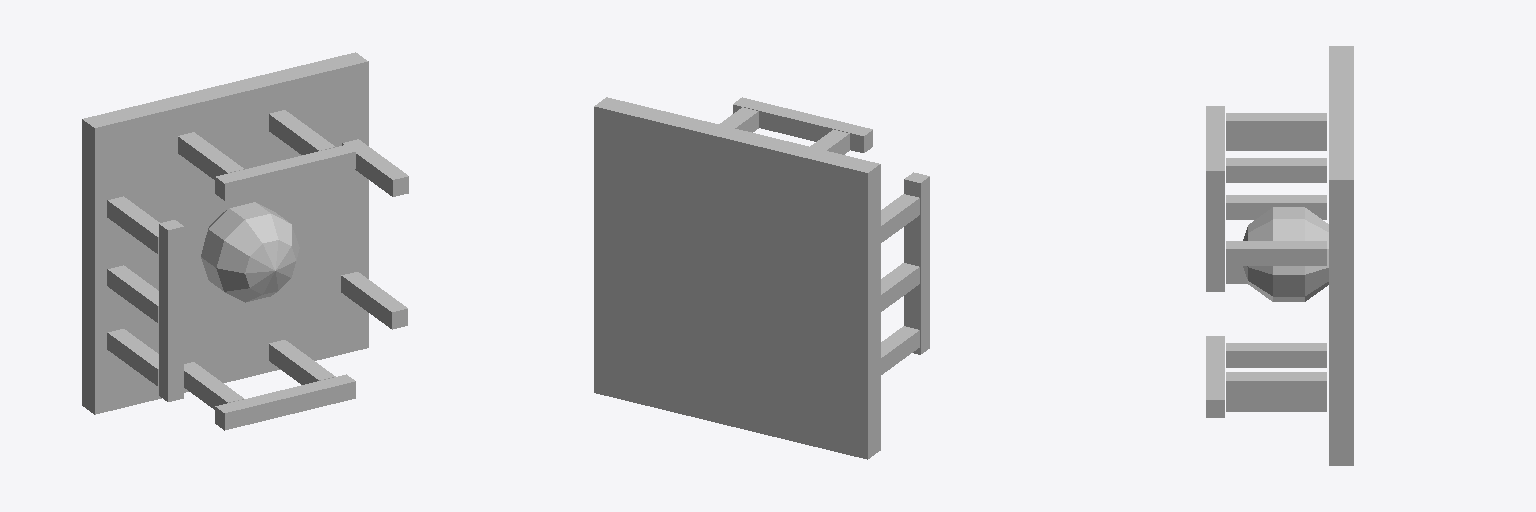
File: escenaAlexandra.obj
3 views of the same model, side by side, from view 1: azimuth 30°, elevation 25°; view 2: azimuth 150°, elevation 25°; view 3: azimuth 270°, elevation 25° (orthographic).
Visible parts, largest first — view 1: Box01, Sphere01, Box09, Box04, Box06, Box13, Box12, Box10, Box08, Box11, Box02, Box05 (+2 smaller); view 2: Box01, Box09, Box04, Box08, Box10, Box11, Box02, Box03; view 3: Box01, Sphere01, Box13, Box02, Box03, Box07, Box12, Box09, Box11, Box04, Box06, Box05 (+1 smaller).
Part boxes in pixels (left/top/right/bottom): Box01: left=82, top=52, right=368, bottom=414; Sphere01: left=201, top=202, right=299, bottom=302; Box09: left=159, top=220, right=183, bottom=401; Box04: left=215, top=145, right=355, bottom=200; Box06: left=215, top=374, right=355, bottom=430; Box13: left=341, top=272, right=407, bottom=329; Box12: left=342, top=139, right=408, bottom=196; Box10: left=107, top=196, right=159, bottom=254; Box08: left=107, top=329, right=158, bottom=386; Box11: left=107, top=265, right=158, bottom=322; Box02: left=178, top=132, right=244, bottom=179; Box05: left=269, top=340, right=335, bottom=384; Box01: left=594, top=97, right=880, bottom=459; Box09: left=904, top=172, right=929, bottom=354; Box04: left=733, top=97, right=872, bottom=152; Box08: left=881, top=326, right=919, bottom=374; Box10: left=881, top=194, right=919, bottom=242; Box11: left=881, top=263, right=919, bottom=311; Box02: left=810, top=129, right=849, bottom=154; Box03: left=719, top=107, right=758, bottom=132; Box01: left=1329, top=46, right=1353, bottom=465; Sphere01: left=1242, top=207, right=1328, bottom=301; Box13: left=1226, top=372, right=1326, bottom=397; Box02: left=1226, top=113, right=1326, bottom=137; Box03: left=1226, top=158, right=1326, bottom=182; Box07: left=1226, top=343, right=1326, bottom=367; Box12: left=1226, top=241, right=1326, bottom=265; Box09: left=1206, top=188, right=1224, bottom=291; Box11: left=1226, top=195, right=1326, bottom=219; Box04: left=1206, top=106, right=1224, bottom=187; Box06: left=1206, top=336, right=1224, bottom=417; Box05: left=1226, top=398, right=1326, bottom=411.
Size of the model in its own units: 25 by 25 by 11.71.